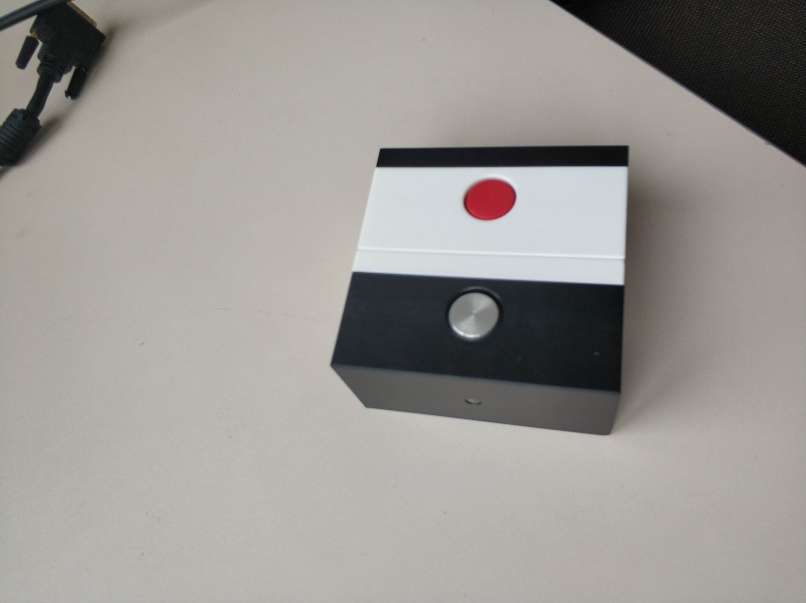black+white+red: (354, 144, 635, 259)
white+black+silver: (328, 247, 628, 437)
